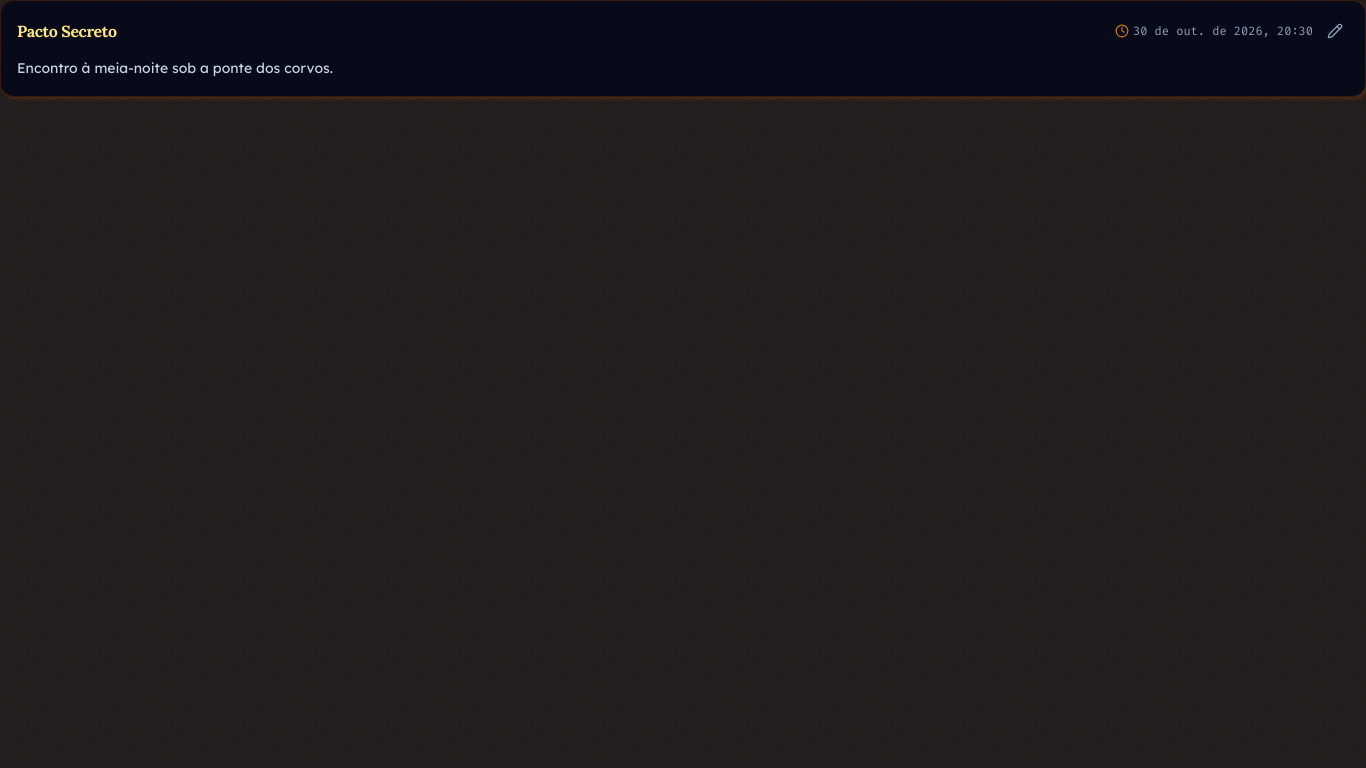
it: Bug 2 & 3: Incremental Notes & SRD Translations › NoteCard Component › toggles edit mode, updates note title and body via PUT, and returns to view mode
Later steps or results of the test are not shown.
Click pencil edit button
Click the button named "Editar nota": coordinates (1335, 31) x1=1321 y1=17 x2=1349 y2=45
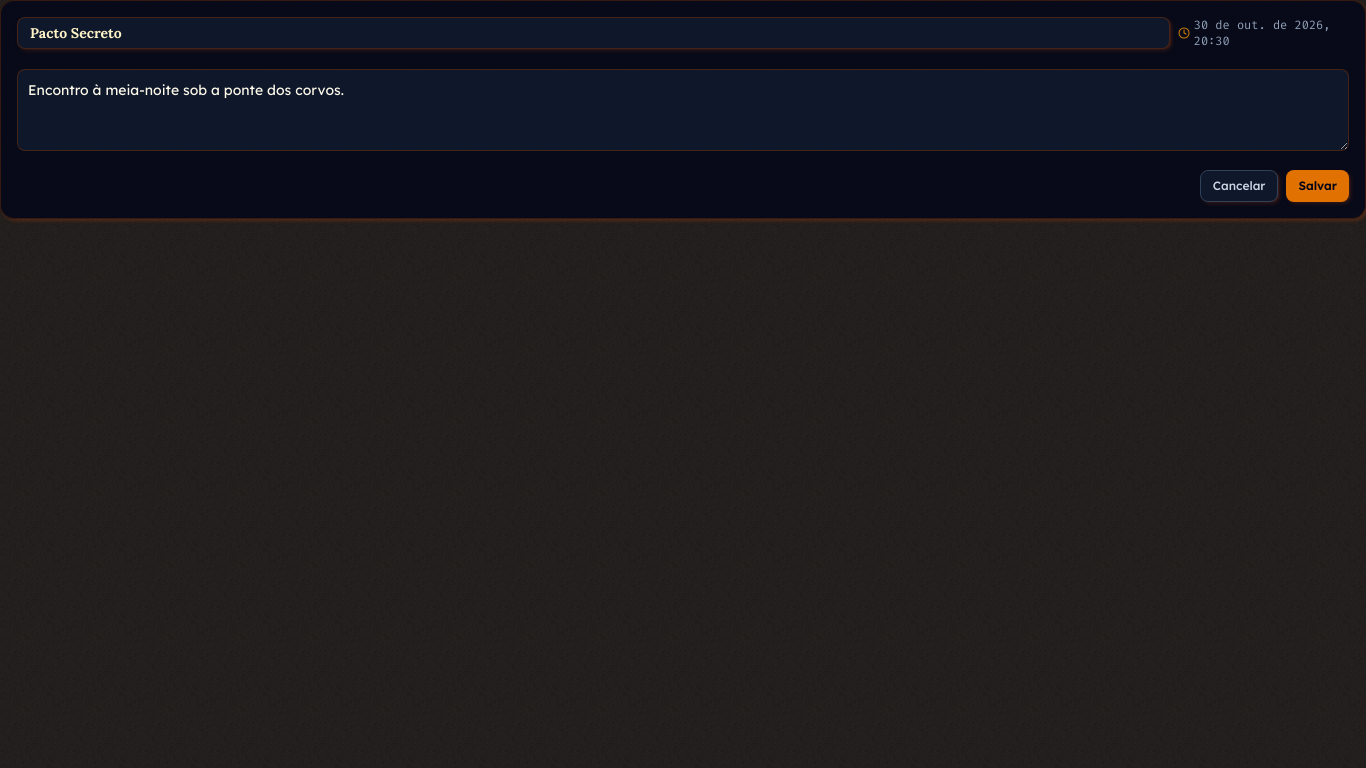
Expected: the field named "Título da nota editável" holds "Pacto Secreto", x1=17 y1=17 x2=1170 y2=49
Expected: the text box named "Conteúdo da nota editável" holds "Encontro à meia-noite sob a ponte dos corvos.", x1=17 y1=69 x2=1349 y2=151
